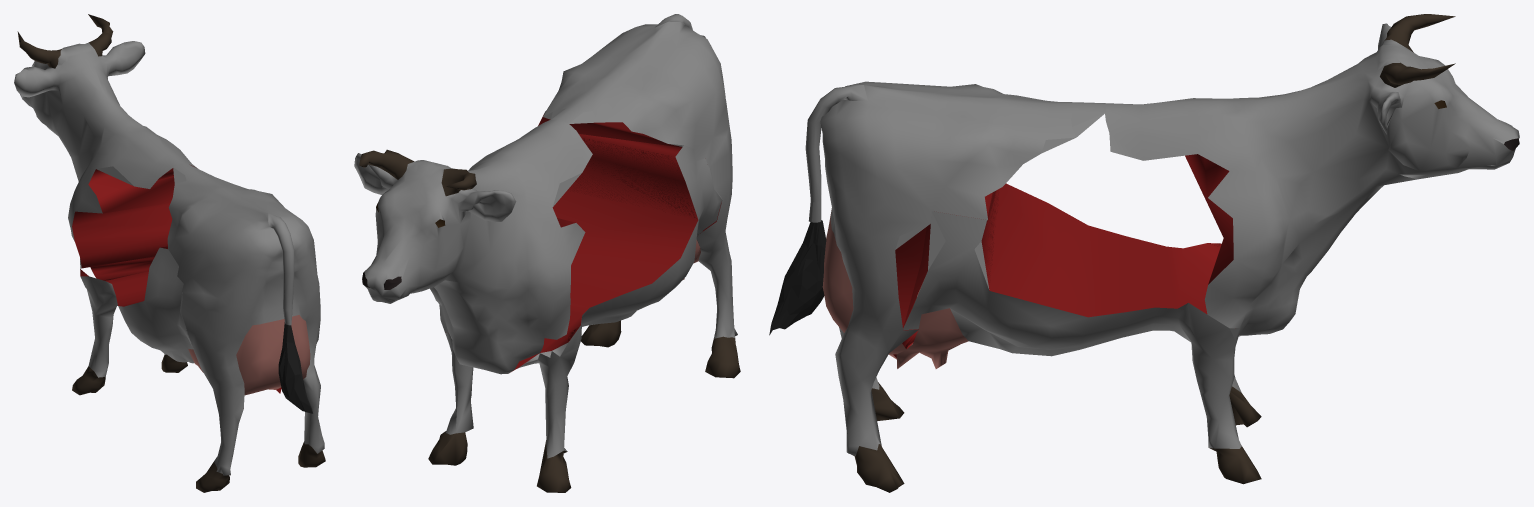
The model's file is cow-parts.obj.
The picture shows the model from 3 angles, left to right: view 1: azimuth 30°, elevation 25°; view 2: azimuth 150°, elevation 25°; view 3: azimuth 270°, elevation 25°; orthographic projection. The views are drawn at different scales.
Visible parts, largest first — view 1: cow.002_cow.004__CowHide1.001, cow.001_cow__CowHide1.003, cow.003_cow.001_flesh.002, cow.004_cow.002__CowHide1.001, cow.002_cow.004__CowUdder1.001, cow_cow.005__CowTail1.001, cow.002_cow.004__CowHide1.003, cow.001_cow__CowHorns1.001, cow.002_cow.004__CowHooves1.001, cow.006_cow.006_flesh.001, cow.004_cow.002__CowHooves1.001; view 2: cow.001_cow__CowHide1.003, cow.002_cow.004__CowHide1.001, cow.006_cow.006_flesh.001, cow.004_cow.002__CowHide1.001, cow.004_cow.002__CowHooves1.001, cow.002_cow.004__CowHooves1.001, cow.005_cow.003_flesh.001, cow.001_cow__CowHorns1.001, cow.007_cow.007_flesh.001, cow.002_cow.004__CowHide1.003; view 3: cow.001_cow__CowHide1.003, cow.002_cow.004__CowHide1.001, cow.006_cow.006_flesh.001, cow.004_cow.002__CowHide1.001, cow_cow.005__CowTail1.001, cow.002_cow.004__CowHide1.003, cow.004_cow.002__CowUdder1.001, cow.002_cow.004__CowHooves1.001, cow.002_cow.004__CowUdder1.001, cow.003_cow.001_flesh.002, cow.001_cow__CowHorns1.001, cow.004_cow.002__CowHooves1.001 (+2 smaller).
Boxes of the visible parts, box(x1,y1,x2,y2) form: cow.002_cow.004__CowHide1.001: box(167, 163, 324, 475); cow.001_cow__CowHide1.003: box(14, 41, 197, 273); cow.003_cow.001_flesh.002: box(72, 165, 195, 280); cow.004_cow.002__CowHide1.001: box(80, 247, 194, 377); cow.002_cow.004__CowUdder1.001: box(236, 315, 310, 408); cow_cow.005__CowTail1.001: box(278, 322, 312, 413); cow.002_cow.004__CowHide1.003: box(173, 164, 294, 325); cow.001_cow__CowHorns1.001: box(17, 14, 113, 68); cow.002_cow.004__CowHooves1.001: box(196, 441, 325, 492); cow.006_cow.006_flesh.001: box(80, 246, 281, 393); cow.004_cow.002__CowHooves1.001: box(72, 354, 187, 395); cow.001_cow__CowHide1.003: box(354, 119, 592, 374); cow.002_cow.004__CowHide1.001: box(543, 21, 737, 338); cow.006_cow.006_flesh.001: box(512, 134, 698, 371); cow.004_cow.002__CowHide1.001: box(440, 145, 722, 458); cow.004_cow.002__CowHooves1.001: box(428, 431, 571, 492); cow.002_cow.004__CowHooves1.001: box(581, 320, 740, 378); cow.005_cow.003_flesh.001: box(567, 138, 696, 341); cow.001_cow__CowHorns1.001: box(359, 149, 476, 196); cow.007_cow.007_flesh.001: box(538, 113, 721, 233); cow.002_cow.004__CowHide1.003: box(543, 14, 692, 146); cow.001_cow__CowHide1.003: box(1105, 23, 1519, 339); cow.002_cow.004__CowHide1.001: box(820, 81, 1105, 455); cow.006_cow.006_flesh.001: box(903, 183, 1221, 349); cow.004_cow.002__CowHide1.001: box(903, 211, 1241, 448); cow_cow.005__CowTail1.001: box(769, 220, 826, 335); cow.002_cow.004__CowHide1.003: box(805, 85, 1105, 249); cow.004_cow.002__CowUdder1.001: box(896, 279, 968, 368); cow.002_cow.004__CowHooves1.001: box(852, 382, 904, 492); cow.002_cow.004__CowUdder1.001: box(822, 210, 905, 359); cow.003_cow.001_flesh.002: box(1185, 154, 1233, 284); cow.001_cow__CowHorns1.001: box(1380, 14, 1455, 87); cow.004_cow.002__CowHooves1.001: box(1209, 386, 1261, 484).
Size of the model in its own units: 0.4889 by 0.9228 by 1.52.
